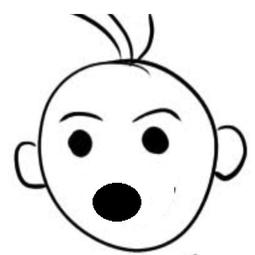eye: (209, 126, 251, 183), (14, 140, 50, 194), (62, 125, 99, 162), (141, 126, 170, 156)
eyebrow: (130, 103, 185, 125), (53, 110, 110, 122)
open_mouth: (84, 176, 153, 226)
